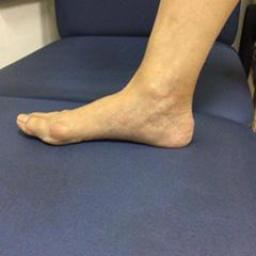Medial View -Right Foot-: (10, 45, 218, 158)
